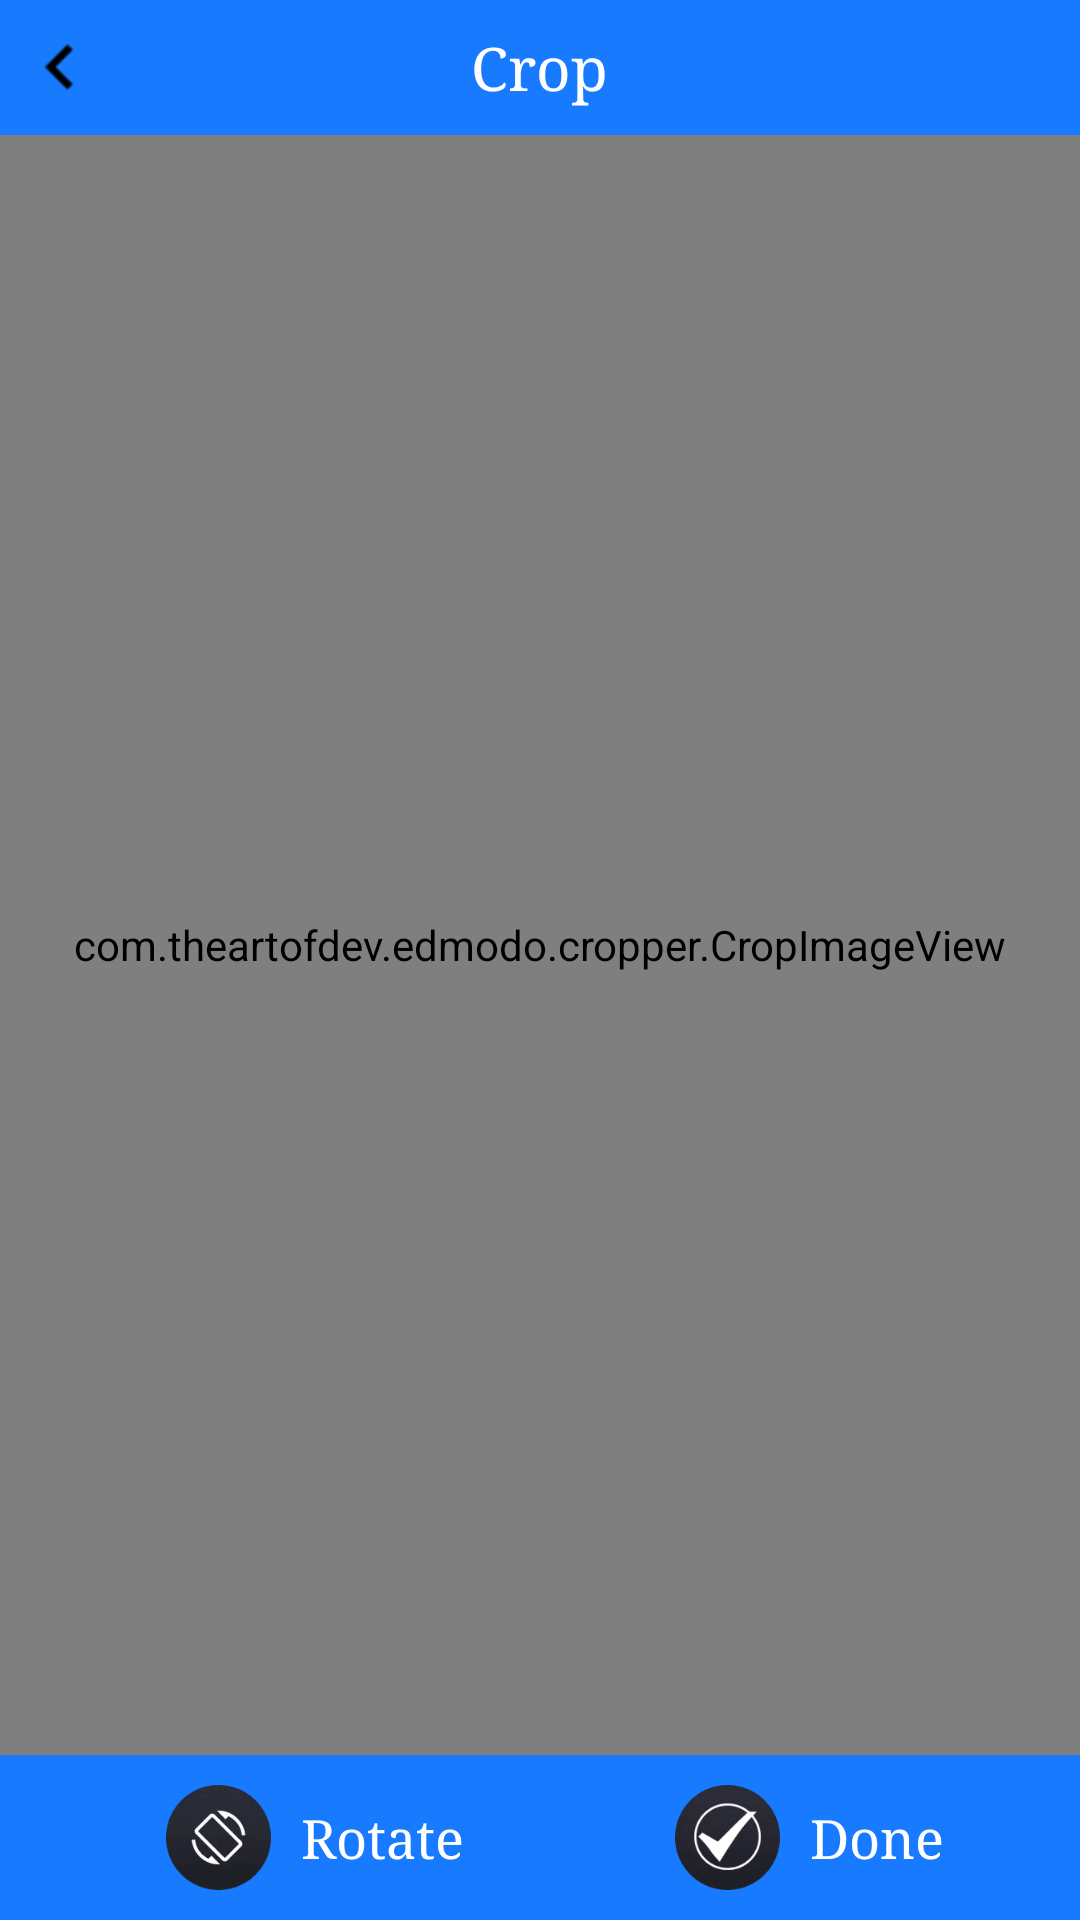

Icons on this 1080px×1920px Android screen, each with its box as {"left": x1, "top": y1, "right": x2, "bottom": y2}:
back: {"left": 44, "top": 44, "right": 74, "bottom": 90}
